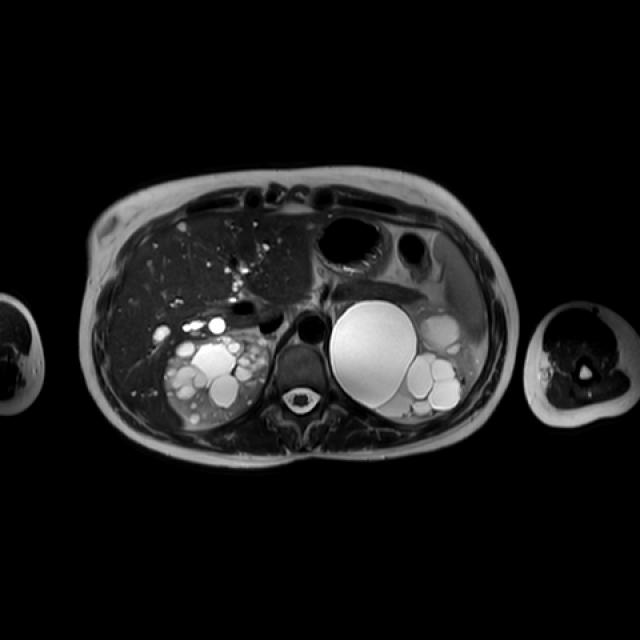sag: (162, 331, 271, 425)
sol: (329, 299, 478, 419)
